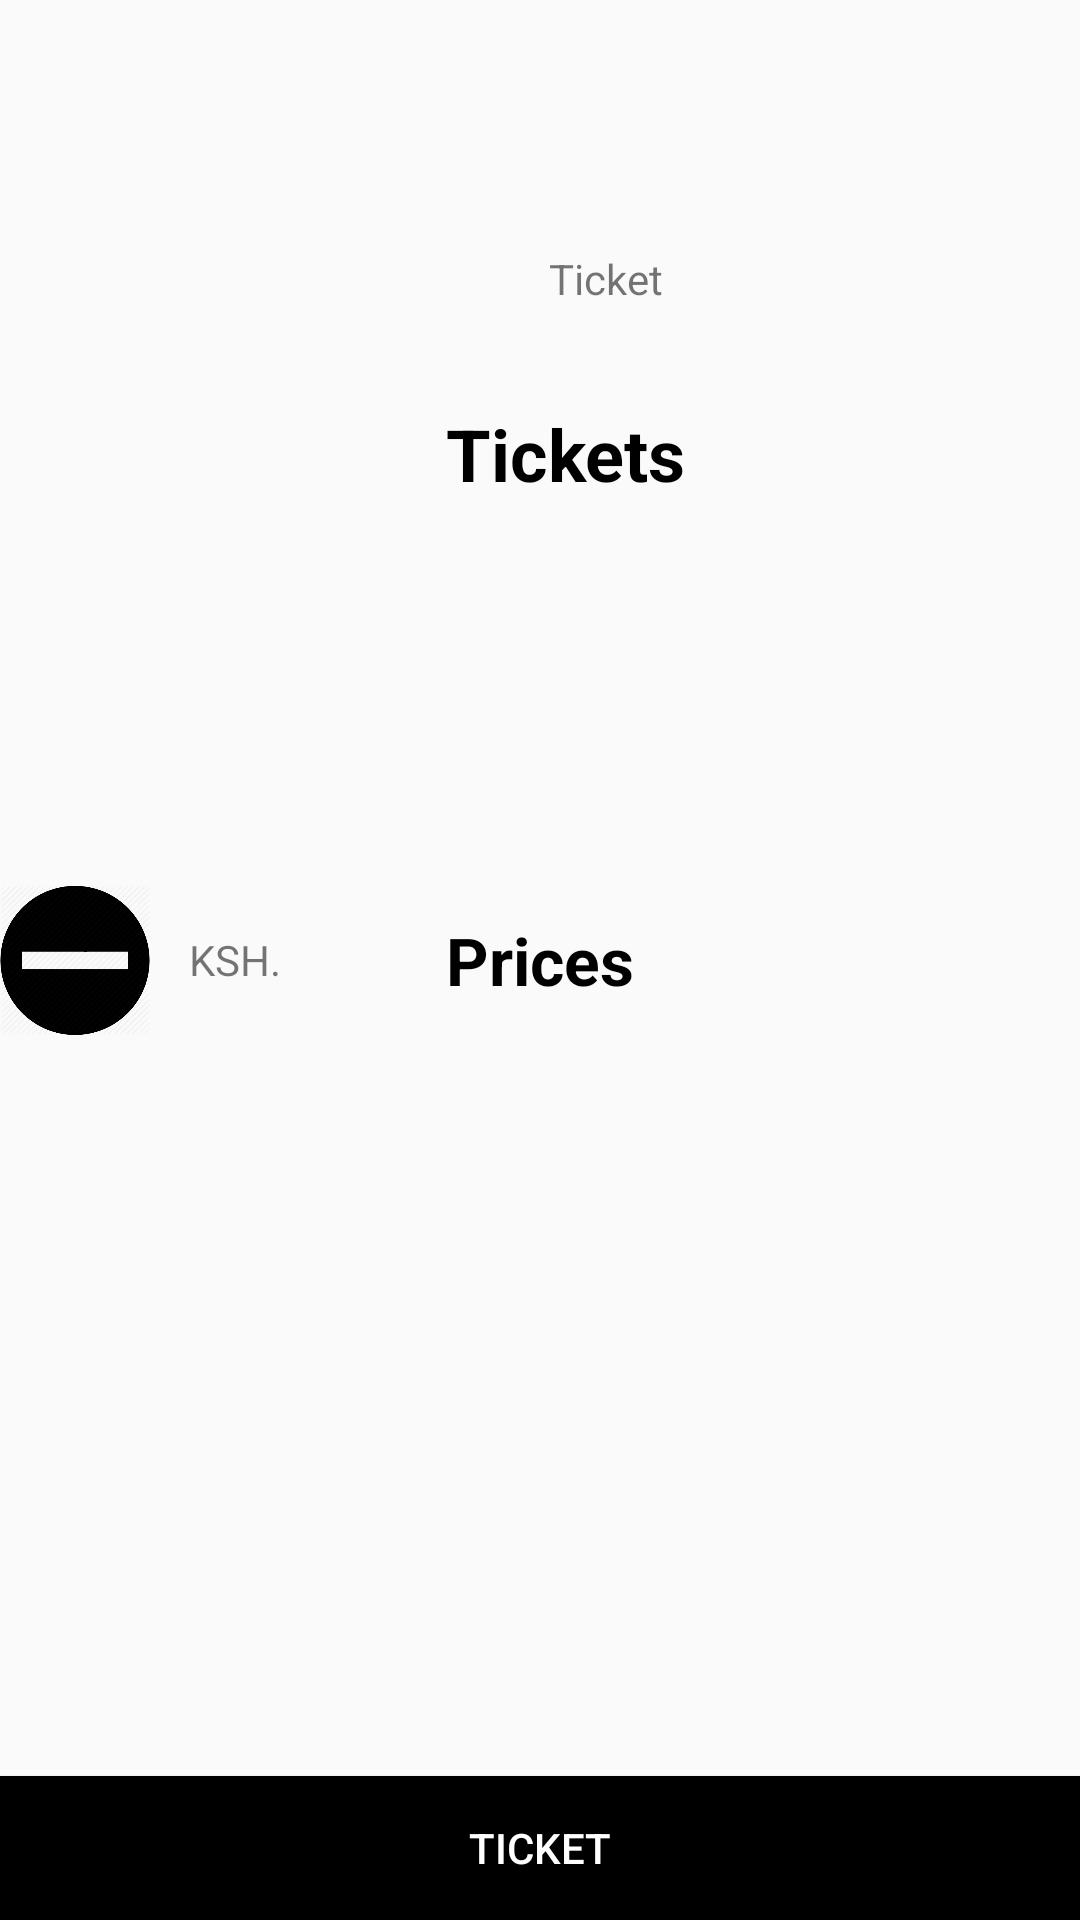

Screen size 1080x1920. Icon name, then its center in pixels as [x,y]:
minuse: [75,960]
